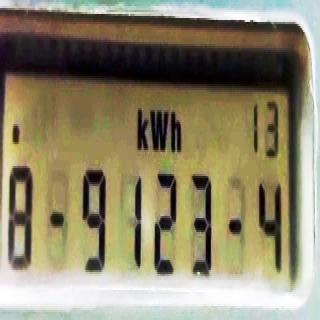-: (228, 206, 243, 244), (49, 200, 63, 237), (10, 116, 22, 148)
1: (132, 172, 145, 274), (252, 96, 259, 162)
2: (152, 163, 178, 286)
3: (264, 96, 281, 166)
4: (188, 164, 214, 289), (256, 172, 284, 285)
8: (6, 154, 34, 282)
9: (80, 159, 108, 281)
